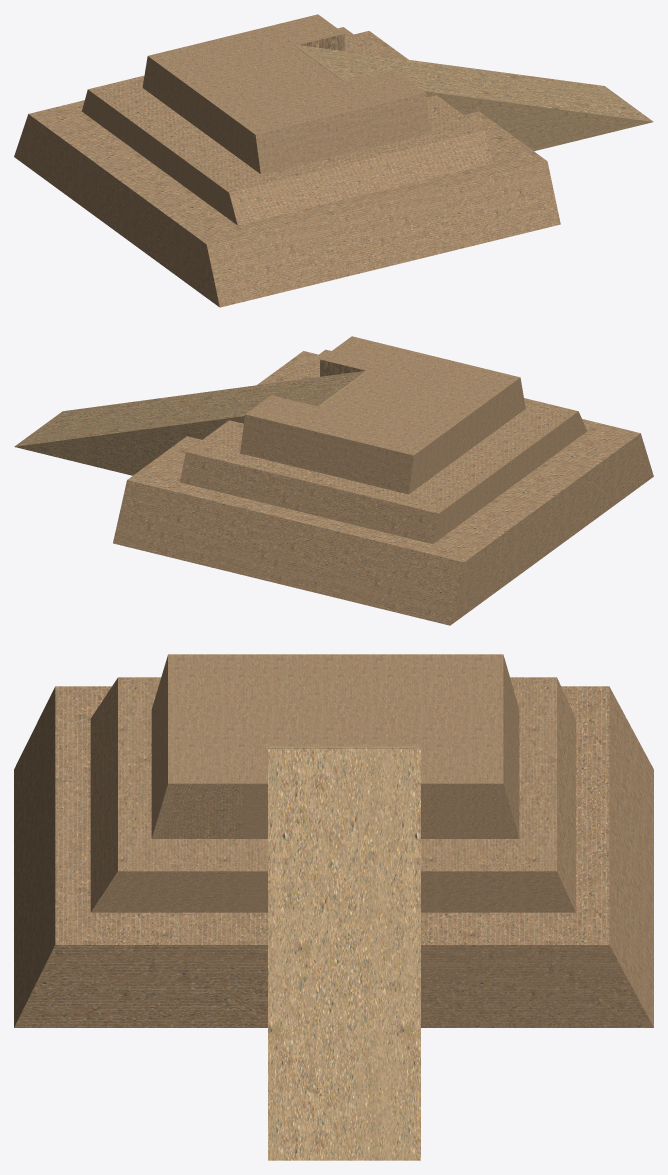
Rendered from Huaca.glb.
The picture shows the model from 3 angles, top to bottom: view 1: azimuth 30°, elevation 25°; view 2: azimuth 150°, elevation 25°; view 3: azimuth 270°, elevation 25°; orthographic projection. The views are drawn at different scales.
Parts seen in each view (by area): view 1: Cube.004, Cube.002, Cube.005, Cube.009; view 2: Cube.004, Cube.002, Cube.005, Cube.009; view 3: Cube.004, Cube.009, Cube.002, Cube.005.
Part boxes in pixels (x1=…): Cube.004: x1=14, y1=31, x2=560, y2=307; Cube.002: x1=142, y1=14, x2=431, y2=174; Cube.005: x1=81, y1=27, x2=493, y2=225; Cube.009: x1=295, y1=45, x2=653, y2=151; Cube.004: x1=113, y1=351, x2=653, y2=625; Cube.002: x1=240, y1=336, x2=525, y2=494; Cube.005: x1=180, y1=349, x2=586, y2=544; Cube.009: x1=14, y1=370, x2=368, y2=475; Cube.004: x1=14, y1=686, x2=653, y2=1027; Cube.009: x1=268, y1=745, x2=420, y2=1160; Cube.002: x1=151, y1=654, x2=519, y2=838; Cube.005: x1=90, y1=677, x2=575, y2=912.
Bounding box in the file's own units: 60.52 × 13 × 41.85.
4 materials, 4 textured.
